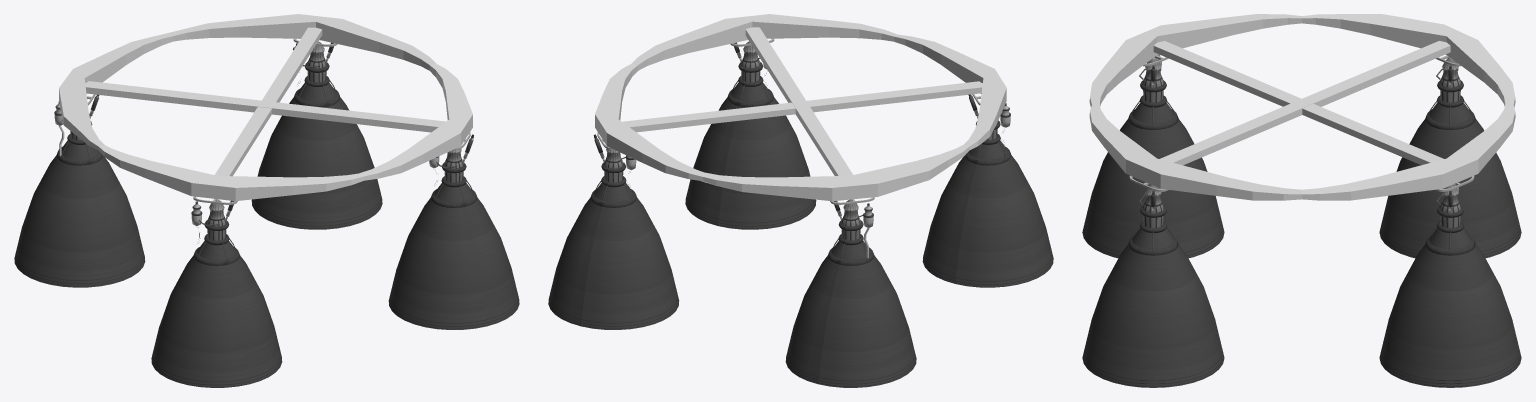
The model's file is RaptorVac_Upper_cluster.fbx.
The picture shows the model from 3 angles, left to right: view 1: azimuth 30°, elevation 25°; view 2: azimuth 150°, elevation 25°; view 3: azimuth 270°, elevation 25°; orthographic projection. The views are drawn at different scales.
Visible parts, largest first — view 1: Cylinder, Engine.009, Engine.008, Engine.002, Engine.003, Cube.001, Cube, Engine.010, Engine.007, Engine.004, Engine; view 2: Cylinder, Engine.003, Engine.002, Engine.009, Engine.008, Cube, Cube.001, Engine, Engine.004, Engine.007, Engine.010; view 3: Cylinder, Engine.008, Engine.003, Engine.009, Engine.002, Cube.001, Cube, Engine.010, Engine, Engine.004, Engine.007.
Part boxes in pixels (box(x1,y1,x2,y2)): Cylinder: box(59, 14, 472, 201); Engine.009: box(151, 241, 282, 387); Engine.008: box(388, 183, 519, 329); Engine.002: box(14, 140, 145, 287); Engine.003: box(251, 82, 382, 229); Cube.001: box(85, 81, 445, 132); Cube: box(215, 27, 322, 176); Engine.010: box(191, 199, 239, 265); Engine.007: box(429, 134, 477, 207); Engine.004: box(293, 41, 340, 107); Engine: box(54, 94, 102, 165); Cylinder: box(595, 14, 1006, 201); Engine.003: box(548, 183, 679, 329); Engine.002: box(785, 241, 916, 387); Engine.009: box(922, 140, 1053, 287); Engine.008: box(685, 82, 816, 229); Cube: box(622, 81, 982, 132); Cube.001: box(745, 27, 852, 175); Engine: box(828, 199, 874, 265); Engine.004: box(590, 134, 636, 207); Engine.007: box(727, 41, 773, 107); Engine.010: box(965, 94, 1011, 165); Cylinder: box(1089, 14, 1515, 200); Engine.008: box(1082, 228, 1224, 387); Engine.003: box(1379, 228, 1521, 387); Engine.009: box(1082, 103, 1224, 258); Engine.002: box(1379, 103, 1521, 258); Cube.001: box(1159, 41, 1450, 165); Cube: box(1153, 41, 1443, 165); Engine.010: box(1128, 54, 1178, 129); Engine: box(1425, 58, 1475, 129); Engine.004: box(1425, 184, 1475, 255); Engine.007: box(1128, 184, 1178, 255).
Size of what is drawn, in the model's own units: 591 by 294 by 591.
